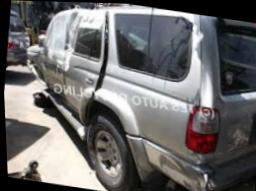Bumper: (123, 135, 234, 191)
Door: (63, 7, 108, 128)
